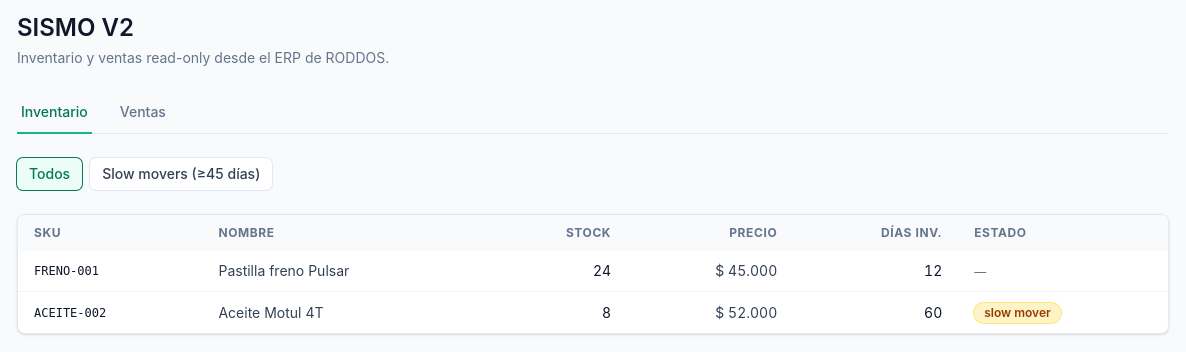
SismoPage › renderiza tabla con SKU, stock y badge slow mover · cambia filtro a slow_movers
Check: the table with test id "sismo-table" is shown, box 18,215 -> 1168,333
Check: the number of rows with test id "sismo-row" is 2, box 18,251 -> 1168,292; 18,292 -> 1168,333
Click filtro slow_movers
Click the button "Slow movers (≥45 días)". click: (181, 174)
box: 90,158 -> 272,190
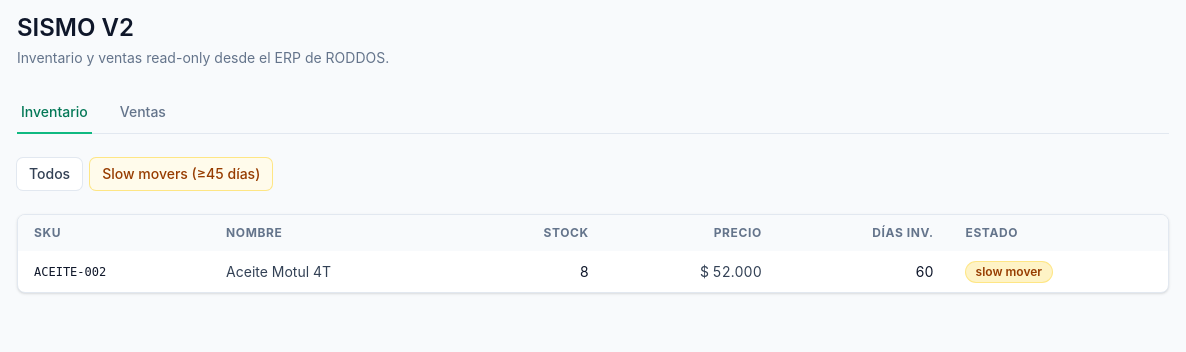
Check: the text "ACEITE-002" is shown, box 18,251 -> 210,292
Check: the number of rows with test id "sismo-row" is 1, box 18,251 -> 1168,292
Check: the text "FRENO-001" is gone
